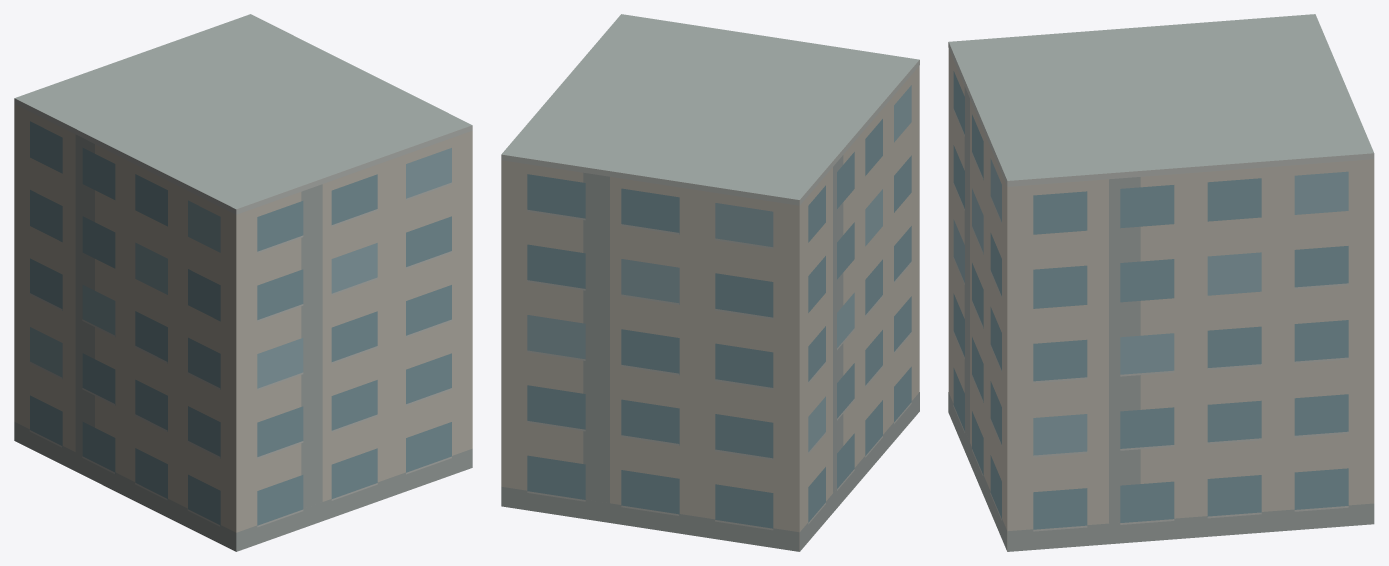
File: residential-b511f40d-23e7-430c-9cc4-6295316c61ac.glb
The picture shows the model from 3 angles, left to right: view 1: azimuth 30°, elevation 25°; view 2: azimuth 150°, elevation 25°; view 3: azimuth 270°, elevation 25°; orthographic projection. The views are drawn at different scales.
Parts seen in each view (by area): view 1: residential-b511f40d-23e7-430c-9cc4-6295316c61ac.tmp; view 2: residential-b511f40d-23e7-430c-9cc4-6295316c61ac.tmp; view 3: residential-b511f40d-23e7-430c-9cc4-6295316c61ac.tmp.
Boxes of the visible parts, left/top/right/bottom form: residential-b511f40d-23e7-430c-9cc4-6295316c61ac.tmp: left=14, top=14, right=472, bottom=551; residential-b511f40d-23e7-430c-9cc4-6295316c61ac.tmp: left=501, top=14, right=919, bottom=551; residential-b511f40d-23e7-430c-9cc4-6295316c61ac.tmp: left=948, top=14, right=1374, bottom=551.
Size of the model in its own units: 14.73 by 15.25 by 15.87.
